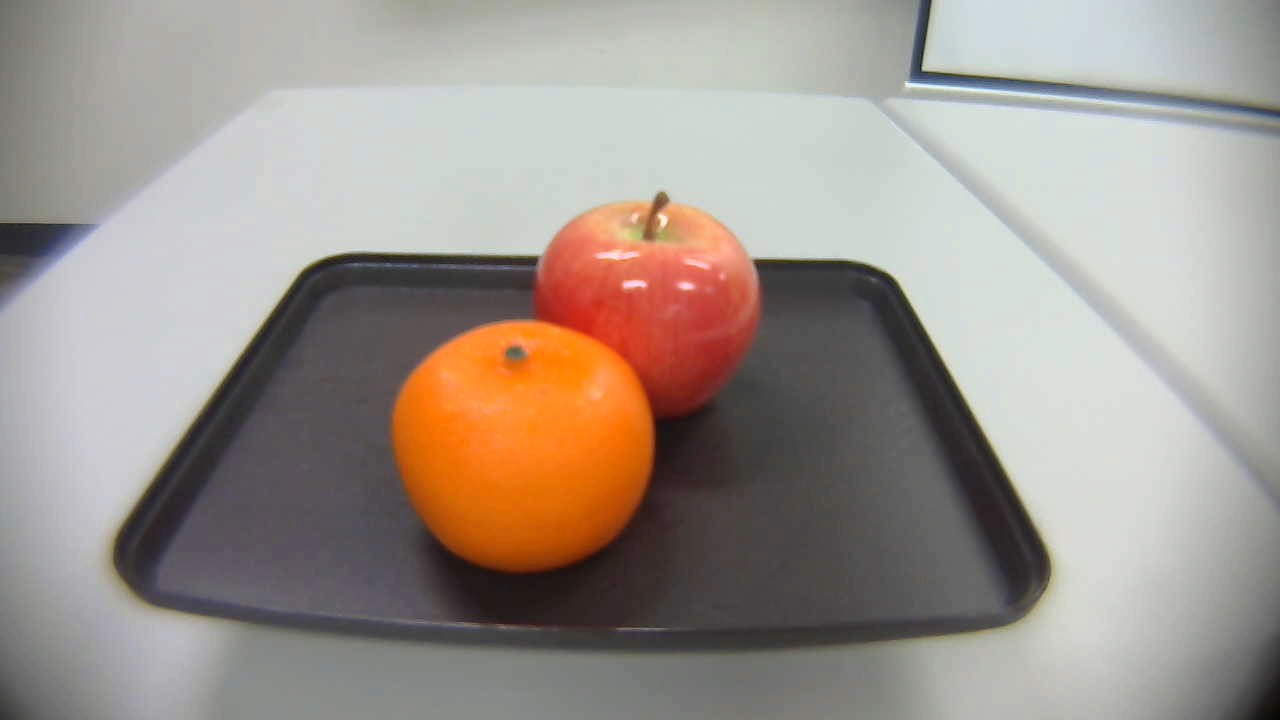orange: (389, 313, 673, 572)
red apple: (520, 193, 780, 430)
